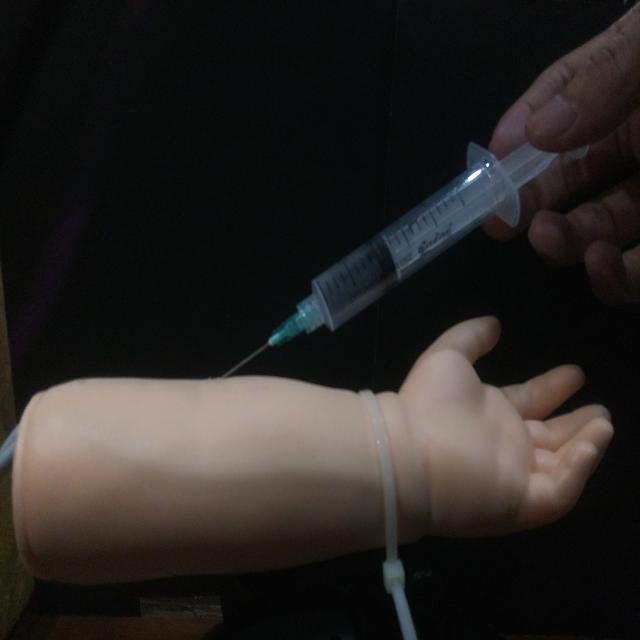20deg: (212, 130, 588, 381)
